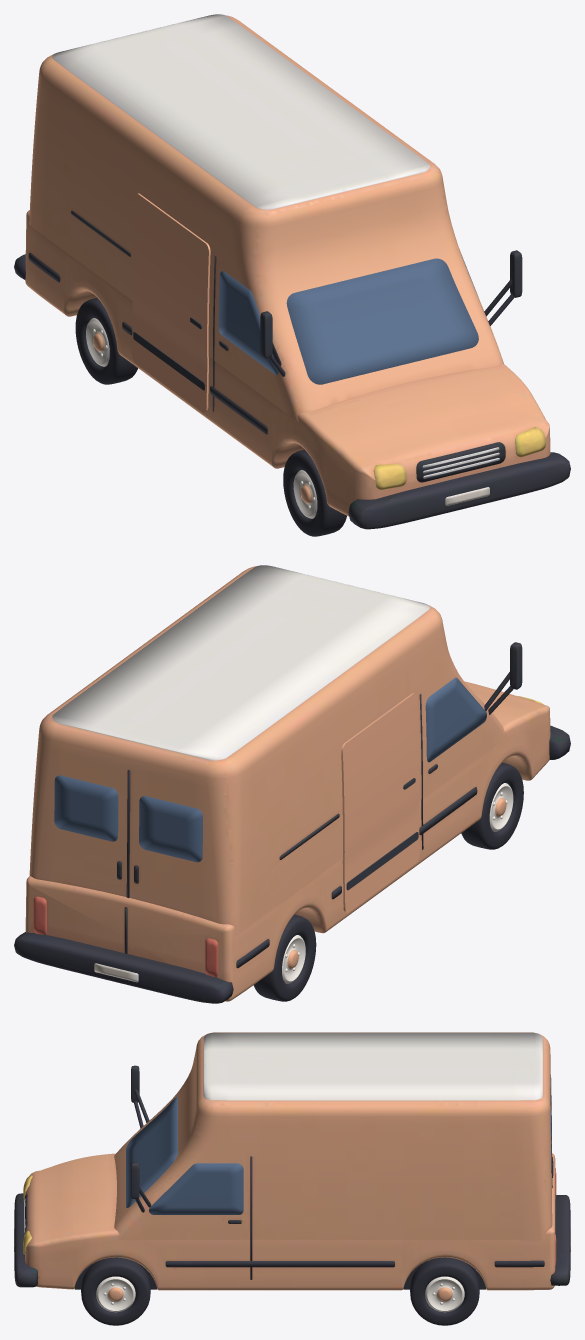
File: delivery-van.glb
3 renders of one model, top to bottom at view 1: azimuth 30°, elevation 25°; view 2: azimuth 150°, elevation 25°; view 3: azimuth 270°, elevation 25°, orthographic. The views are drawn at different scales.
Visible parts, largest first — view 1: delivery-van_body, delivery-van_sliding_door; view 2: delivery-van_body, delivery-van_sliding_door; view 3: delivery-van_body, delivery-van_sliding_door.
Part boxes in pixels (<box>): delivery-van_body: <box>14,14,570,529</box>; delivery-van_sliding_door: <box>75,193,478,536</box>; delivery-van_body: <box>14,565,570,1003</box>; delivery-van_sliding_door: <box>54,677,523,1001</box>; delivery-van_body: <box>14,1032,570,1290</box>; delivery-van_sliding_door: <box>81,1078,551,1325</box>.
Size of the model in its own units: 2.44 by 2.54 by 5.76.
2 materials, 2 textured.
